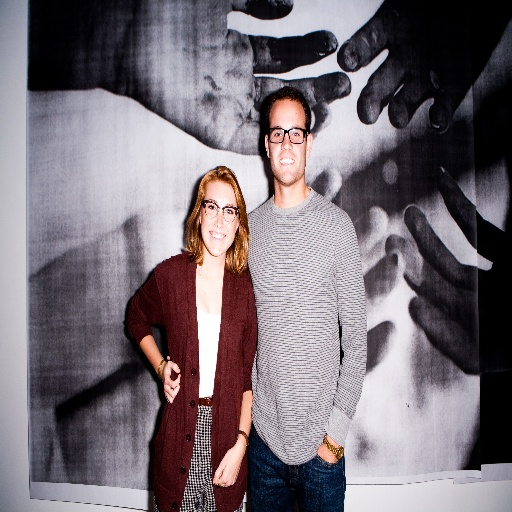hand: (124, 0, 351, 153), (335, 0, 511, 136), (309, 165, 395, 375), (394, 184, 487, 378), (212, 448, 242, 487), (161, 359, 180, 405), (316, 442, 335, 460)
